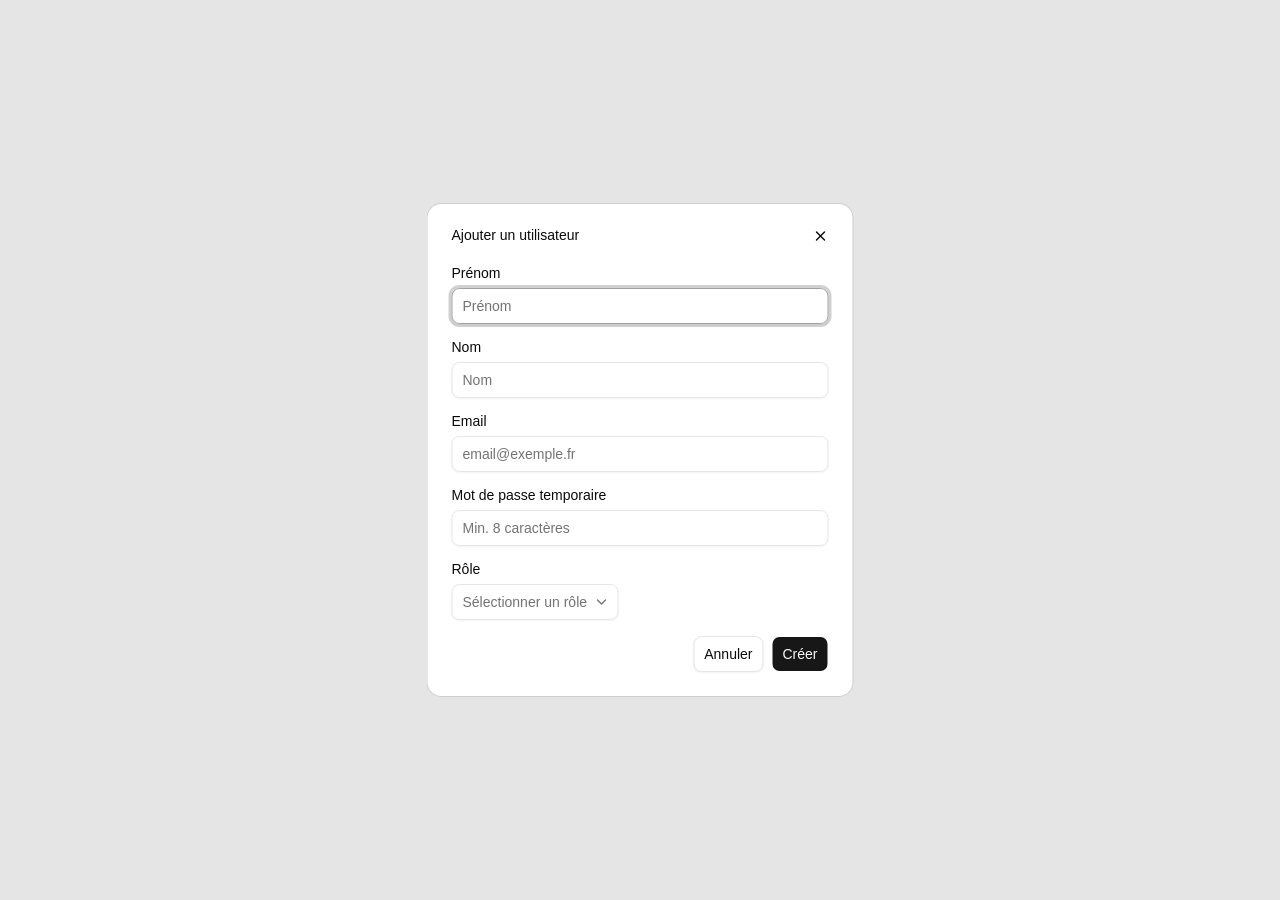
Test: CreateUserDialog › shows validation error for invalid email format
Type "user@incomplete" into the field labelled "Email". click: (640, 454)
box: top-left (452, 436), bottom-right (828, 472)
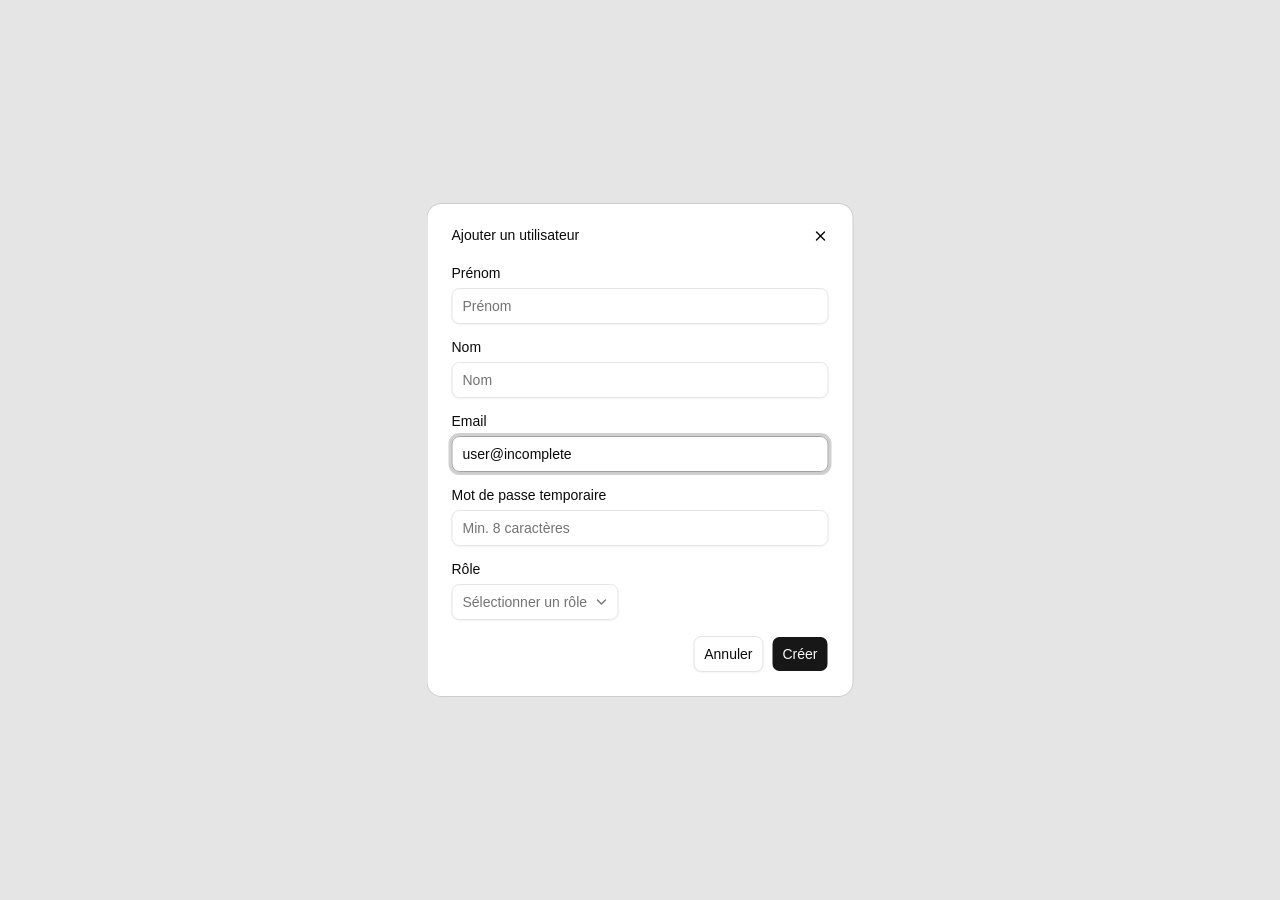
Click the button "Créer". click: click(800, 654)
box: top-left (772, 636), bottom-right (828, 672)
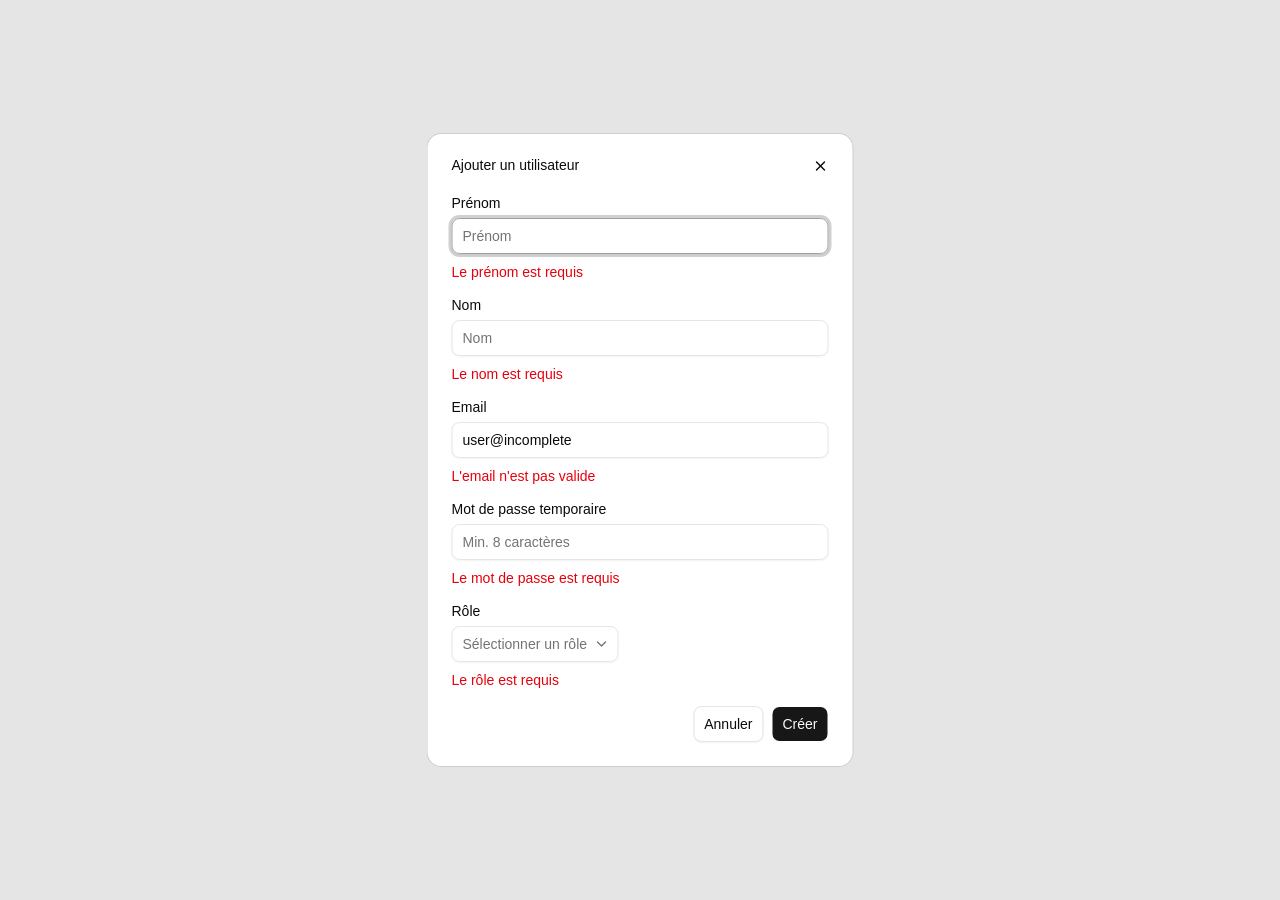
expect the text "L'email n'est pas valide" is shown: met, box top-left (452, 468), bottom-right (595, 484)
